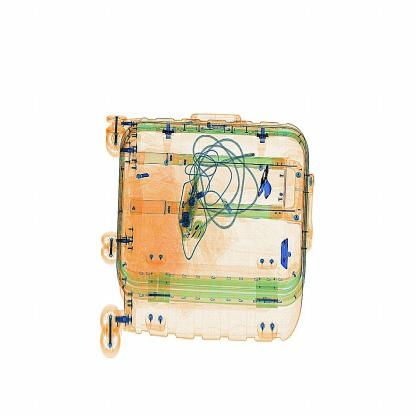wrench: (253, 154, 278, 206)
